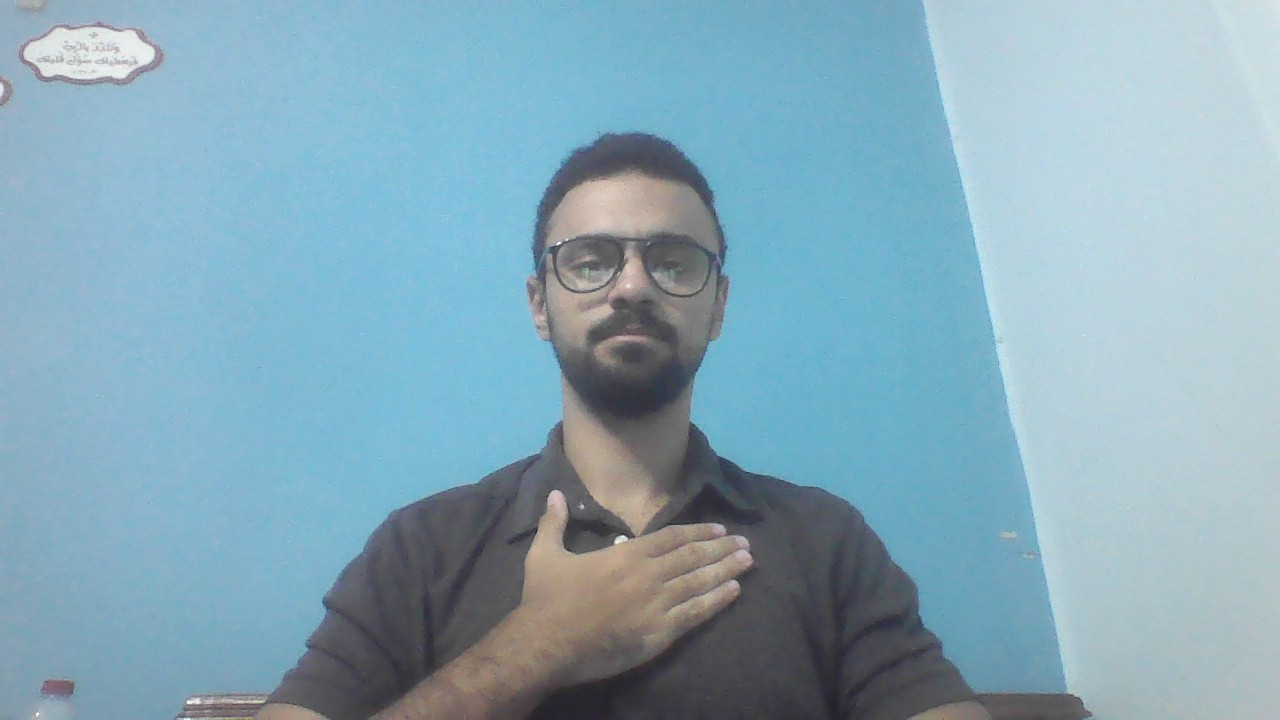please: (507, 488, 759, 681)
